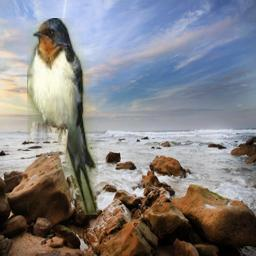Swallow: (27, 18, 98, 215)
